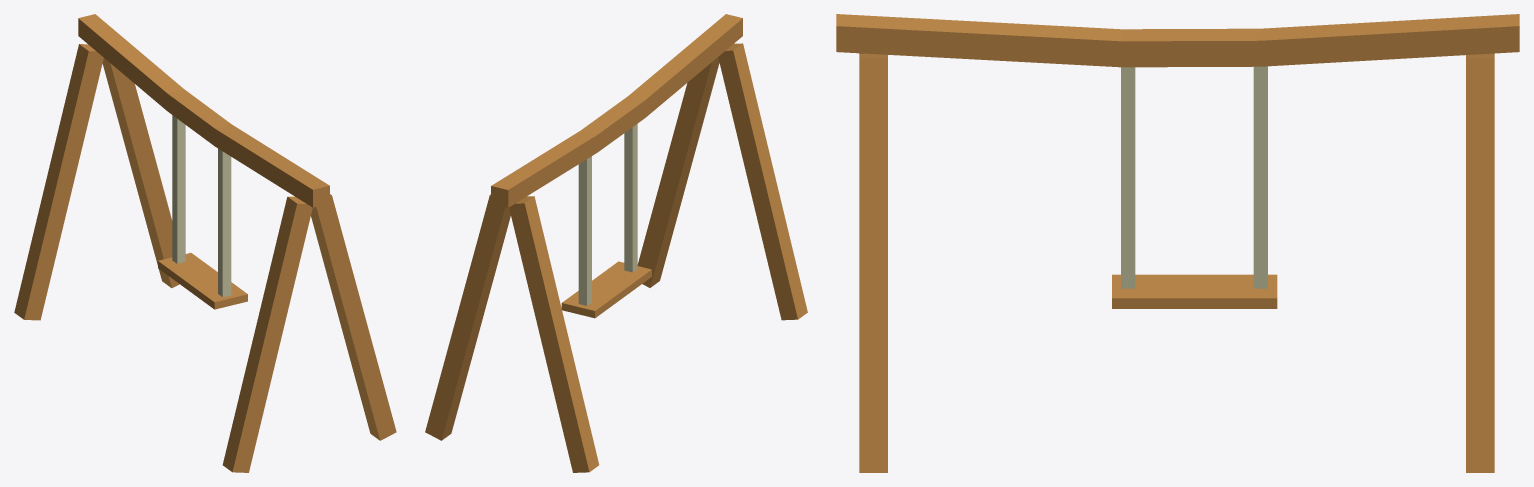
File: swing.fbx
3 views of the same model, side by side, from view 1: azimuth 30°, elevation 25°; view 2: azimuth 150°, elevation 25°; view 3: azimuth 270°, elevation 25° (orthographic). The views are drawn at different scales.
Parts seen in each view (by area): view 1: Cube.089, Cube.096, Cube.091, Cube.095; view 2: Cube.089, Cube.096, Cube.095, Cube.091; view 3: Cube.089, Cube.096, Cube.095, Cube.091.
Part boxes in pixels (x1=…): Cube.089: x1=14, y1=14, x2=396, y2=472; Cube.096: x1=158, y1=253, x2=247, y2=309; Cube.091: x1=218, y1=148, x2=231, y2=297; Cube.095: x1=172, y1=115, x2=185, y2=263; Cube.089: x1=425, y1=14, x2=807, y2=472; Cube.096: x1=561, y1=261, x2=651, y2=318; Cube.095: x1=578, y1=156, x2=591, y2=305; Cube.091: x1=624, y1=124, x2=637, y2=272; Cube.089: x1=836, y1=14, x2=1519, y2=472; Cube.096: x1=1112, y1=274, x2=1277, y2=308; Cube.095: x1=1253, y1=66, x2=1267, y2=288; Cube.091: x1=1121, y1=67, x2=1135, y2=288.
Bounding box in the file's own units: 209 × 334 × 516.
